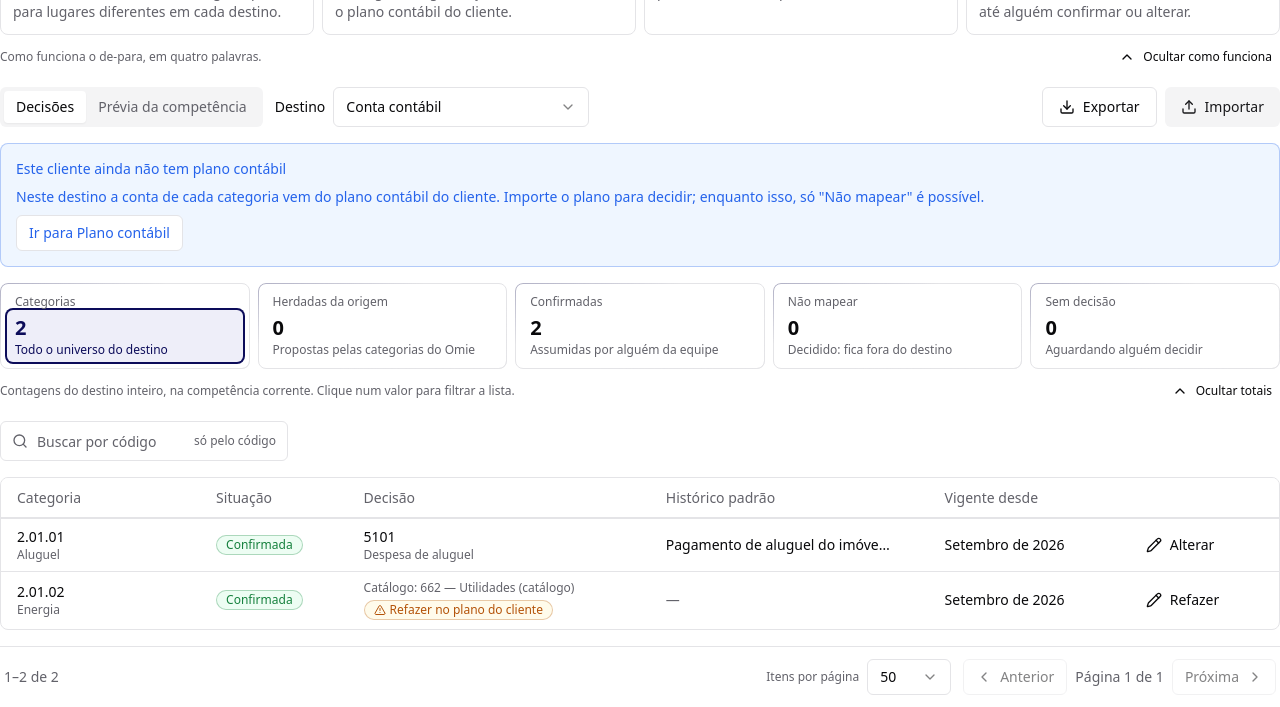
Test: cliente sem plano contábil › lista e gaveta orientam a importar, com o link, e "Gravar" fica travado
(page scrolled)
Click the button with aria-label "Alterar a categoria 2.01.01": (1180, 544) [1134,526,1226,562]
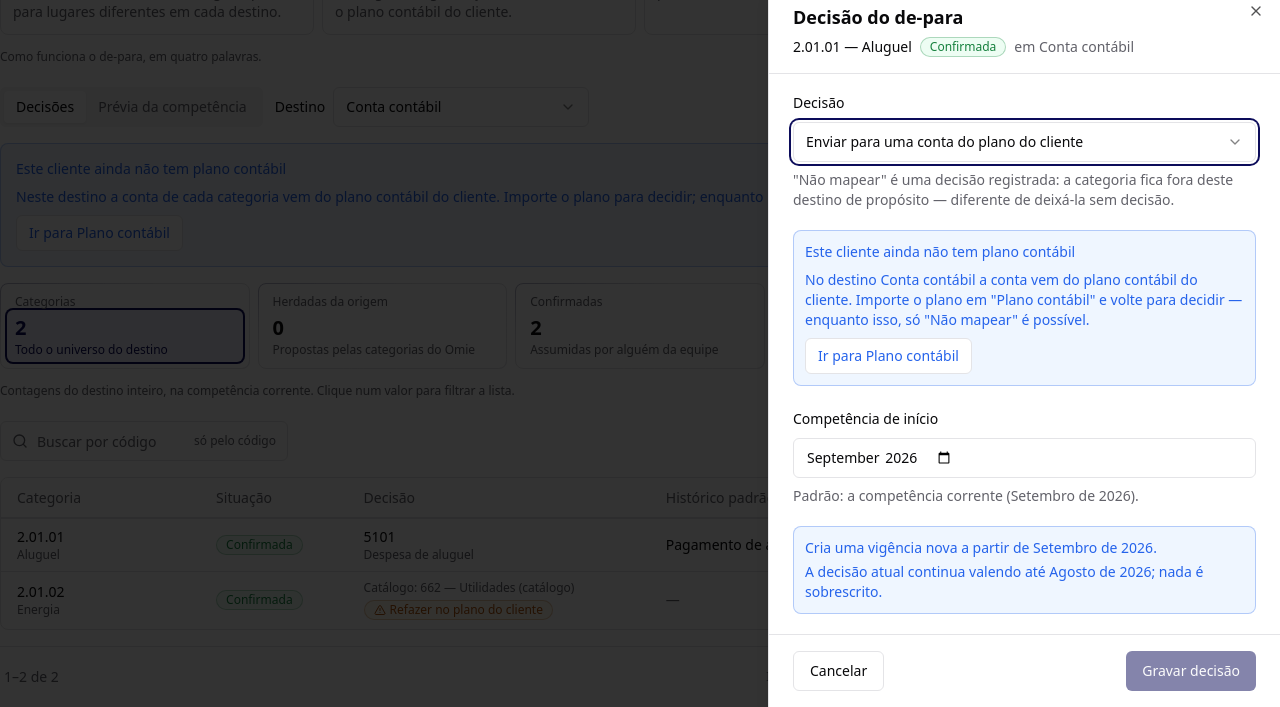
Expected: the message with test id "mapping-accounting-no-plan" shows "Este cliente ainda não tem plano contábil", [16,159,286,178]
Result: the button "Gravar decisão" is disabled at [1126,651,1256,691]
